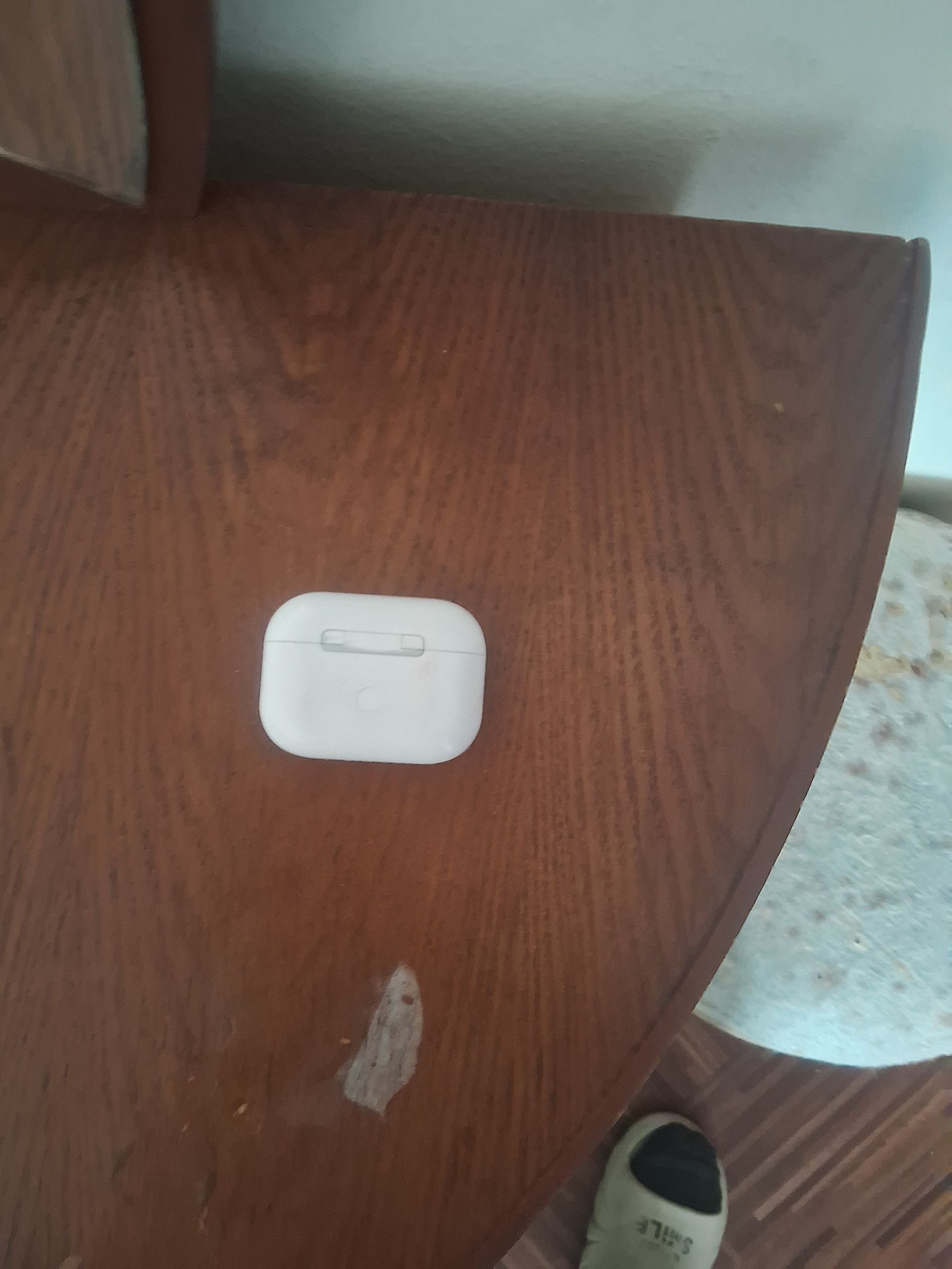Air_pod: (255, 588, 493, 774)
